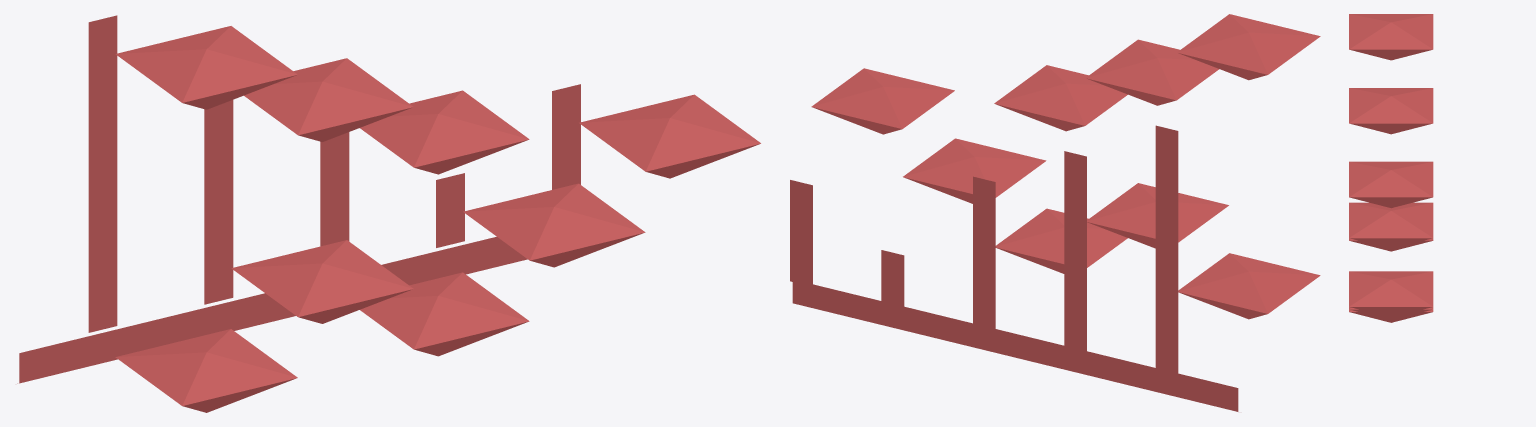
The model's file is rc_dorifu1.glb.
3 renders of one model, left to right at view 1: azimuth 30°, elevation 25°; view 2: azimuth 150°, elevation 25°; view 3: azimuth 270°, elevation 25°, orthographic. The views are drawn at different scales.
Parts seen in each view (by area): view 1: rc_dorifu1_col; view 2: rc_dorifu1_col; view 3: rc_dorifu1_col.
Part boxes in pixels (<box>): rc_dorifu1_col: <box>17,15,760,412</box>; rc_dorifu1_col: <box>790,14,1320,411</box>; rc_dorifu1_col: <box>1349,14,1433,322</box>.
Bounding box in the file's own units: 2.12 × 1.28 × 0.8202.
